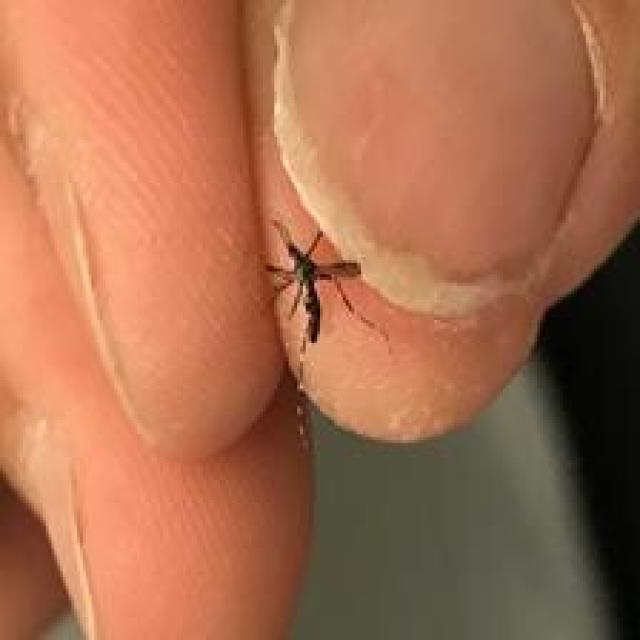Aedes albopictus: (263, 219, 363, 344)
